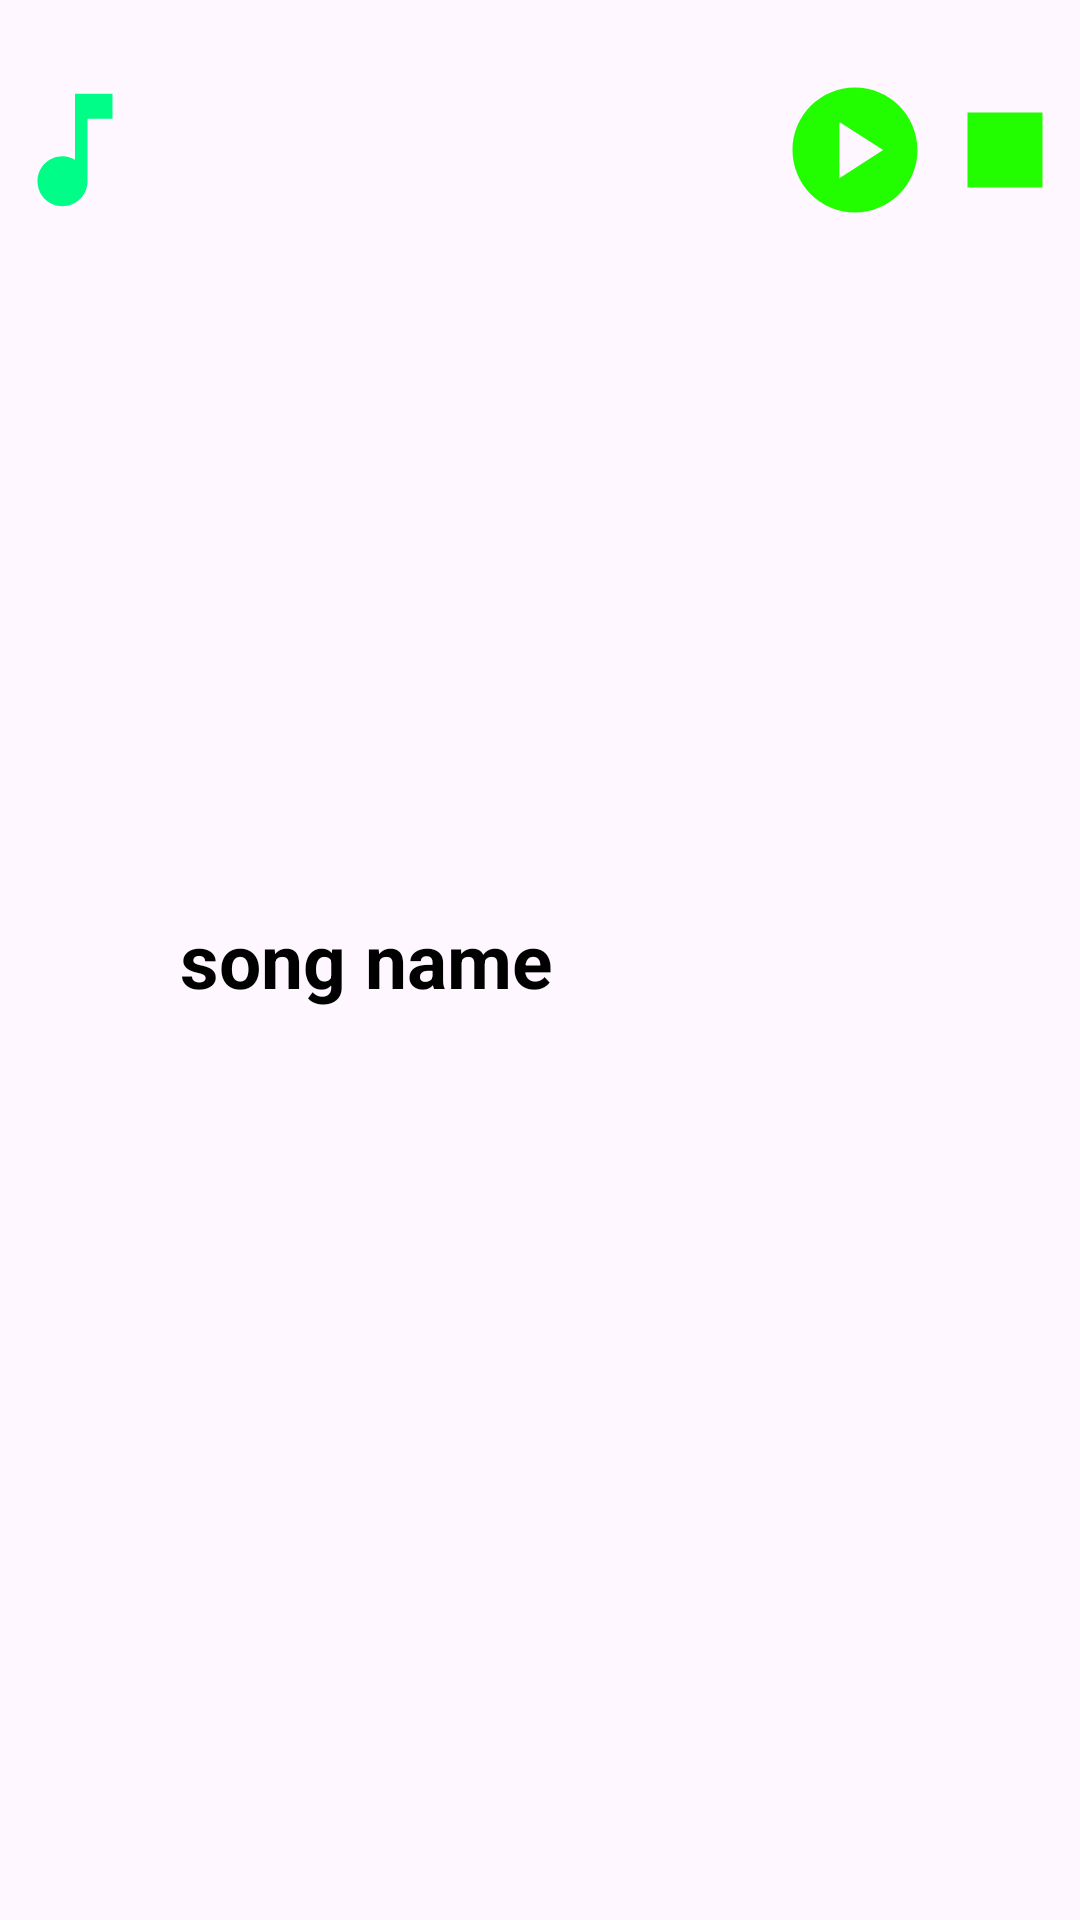

Screen size 1080px×1920px. Icon name, then its box in pixels as Rect(x1, y1, x2, y2):
music note: Rect(37, 93, 113, 207)
play circle: Rect(792, 87, 918, 213)
